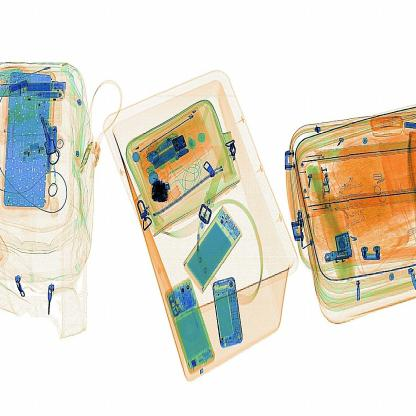scissors: (145, 173, 177, 210)
